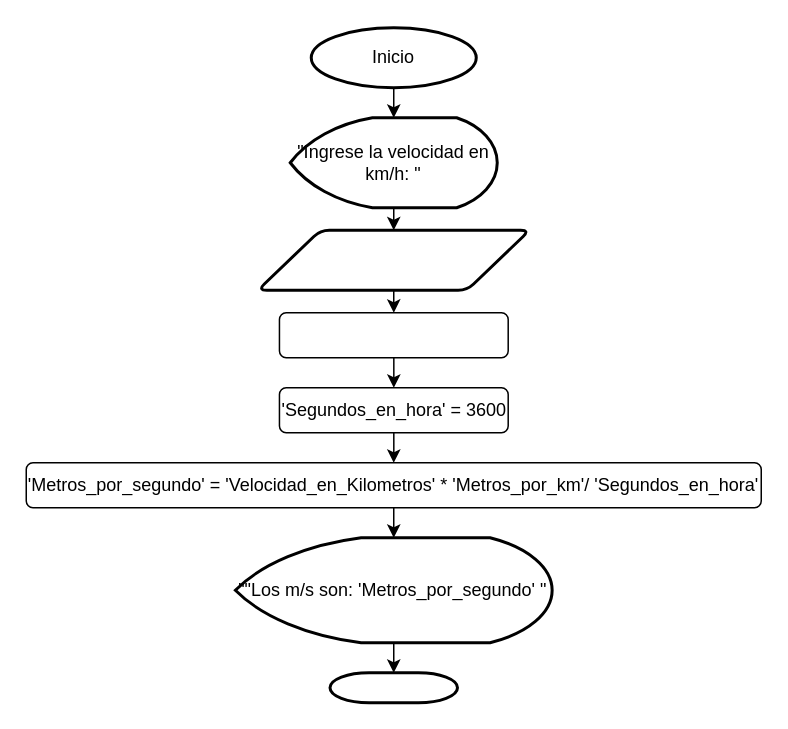
Image size: 788x729. Some labels were removed from this diagram. The shapes that lost their labels are listed below. From the top down, each one's box as (x1, y1, x2, y2) in pixels, then its label:
(256, 228, 530, 291): 'Velocidad_en_Kilometros'
(278, 311, 508, 358): 'Metros_por_km' = 1000
(328, 670, 458, 704): Fin
